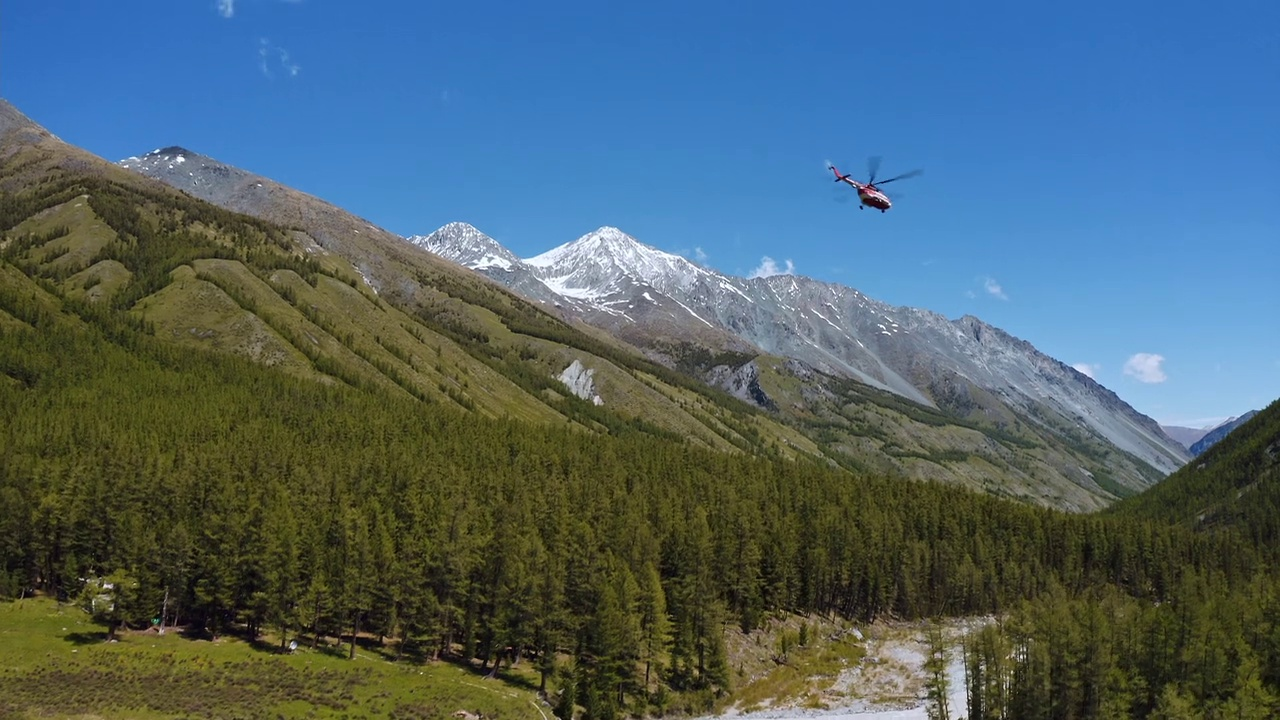heli: (827, 158, 921, 213)
